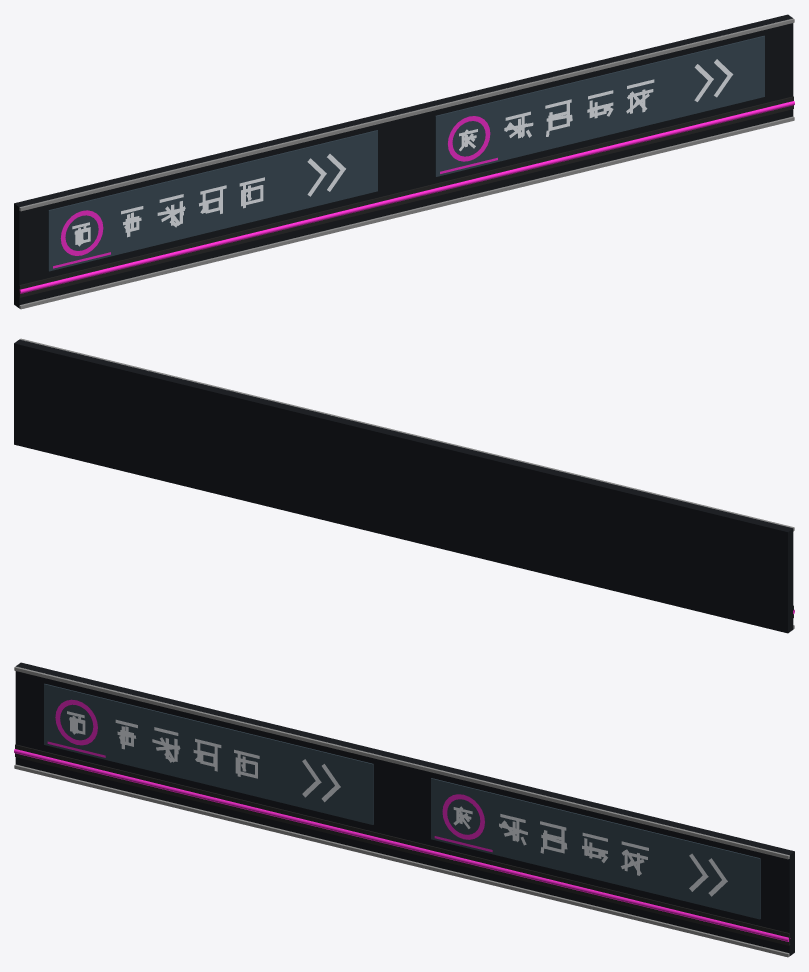
Rendered from Metro_Wayfinding_Wall_Strip_4m.fbx.
3 views of the same model, one above another, from view 1: azimuth 30°, elevation 25°; view 2: azimuth 150°, elevation 25°; view 3: azimuth 330°, elevation 25° (orthographic).
Parts seen in each view (by area): view 1: Metro_Wayfinding_Wall_Strip_4m_LOD0; view 2: Metro_Wayfinding_Wall_Strip_4m_LOD0; view 3: Metro_Wayfinding_Wall_Strip_4m_LOD0.
Part boxes in pixels (left/top/right/bottom): Metro_Wayfinding_Wall_Strip_4m_LOD0: left=14, top=14, right=794, bottom=309; Metro_Wayfinding_Wall_Strip_4m_LOD0: left=14, top=338, right=794, bottom=633; Metro_Wayfinding_Wall_Strip_4m_LOD0: left=14, top=662, right=794, bottom=957.
Size of what is drawn, in the model's own units: 4 by 0.5 by 0.0622.
